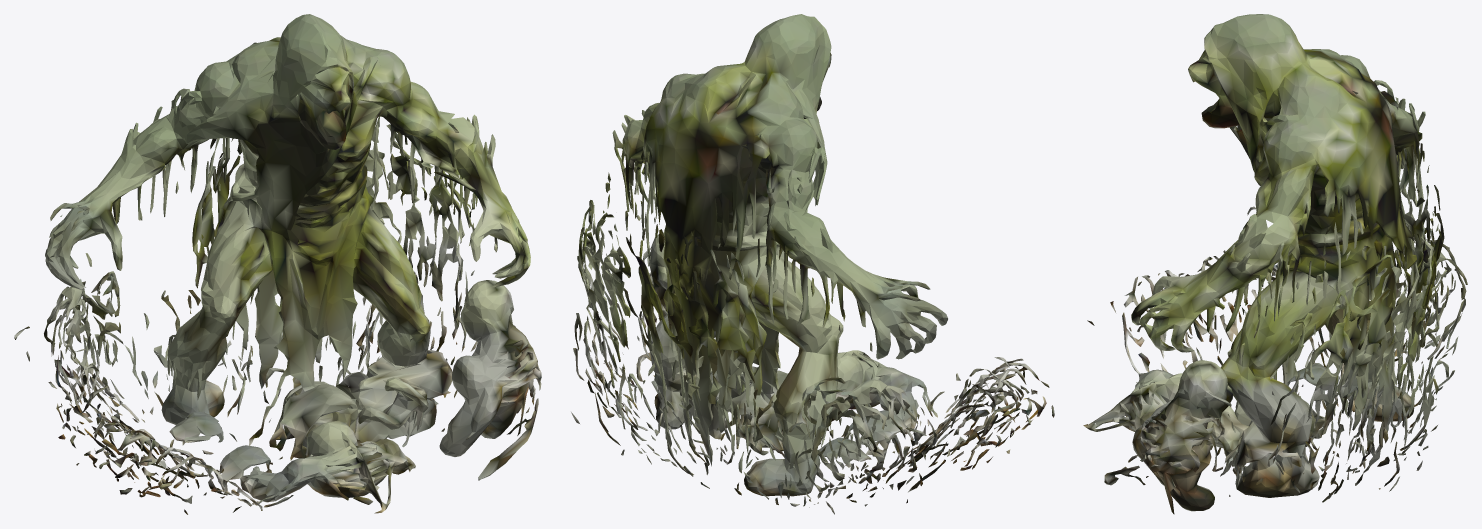
The model's file is maidenGhost.glb.
3 renders of one model, left to right at view 1: azimuth 30°, elevation 25°; view 2: azimuth 150°, elevation 25°; view 3: azimuth 270°, elevation 25°, orthographic. The views are drawn at different scales.
Visible parts, largest first — view 1: world; view 2: world; view 3: world.
Part boxes in pixels (left/top/right/bottom): world: left=14, top=14, right=541, bottom=514; world: left=571, top=14, right=1054, bottom=514; world: left=1083, top=14, right=1467, bottom=514.
Bounding box in the file's own units: 0.9958 × 1 × 0.8096.
